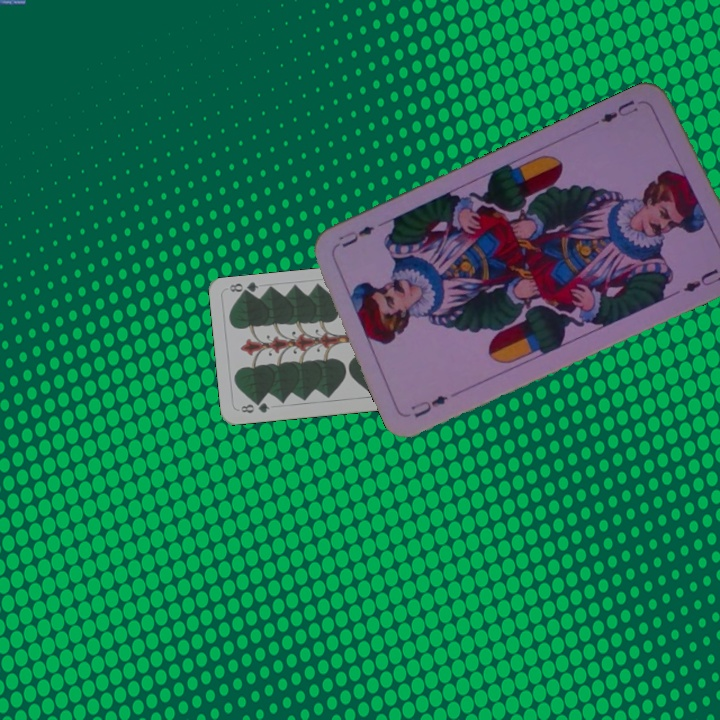EU: (596, 95, 640, 125), (406, 391, 450, 421)
G8: (237, 398, 272, 416)
